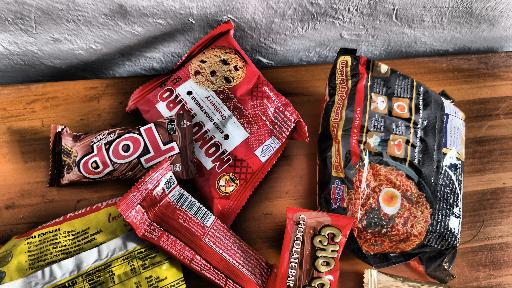mie sedap: (327, 37, 467, 286)
momotaro: (143, 34, 309, 201)
top: (29, 118, 187, 186)
